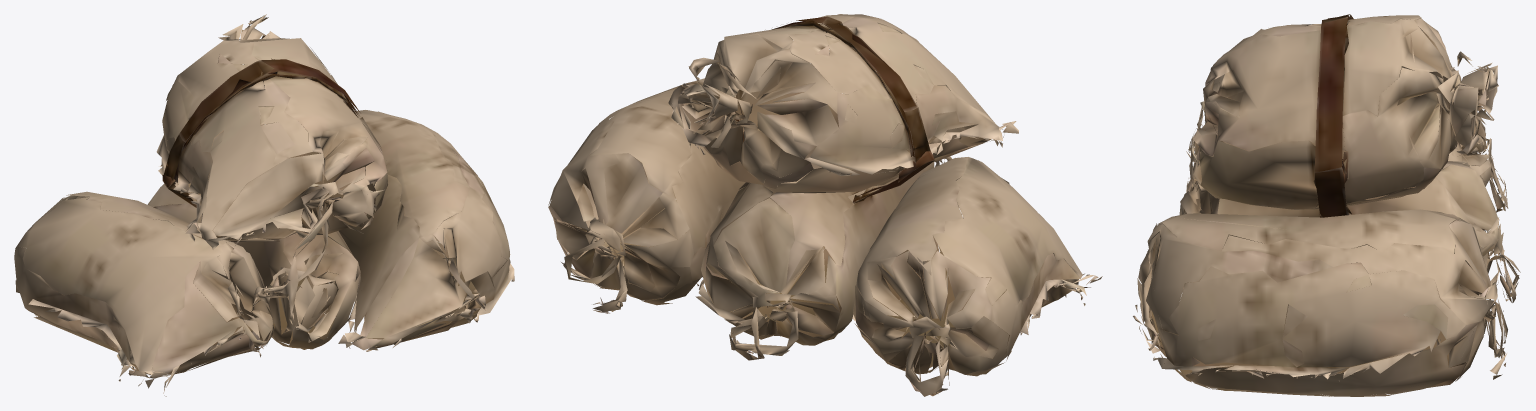
File: sacos_monton.movil.glb
3 renders of one model, left to right at view 1: azimuth 30°, elevation 25°; view 2: azimuth 150°, elevation 25°; view 3: azimuth 270°, elevation 25°, orthographic. The views are drawn at different scales.
Parts seen in each view (by area): view 1: geometry_0; view 2: geometry_0; view 3: geometry_0.
Part boxes in pixels (x1,y1,x2,y2): geometry_0: (14, 14, 514, 396); geometry_0: (548, 14, 1102, 396); geometry_0: (1133, 14, 1520, 396).
Bounding box in the file's own units: 1.3 × 0.75 × 0.8989.
Materials: 1 (1 with a texture image).
